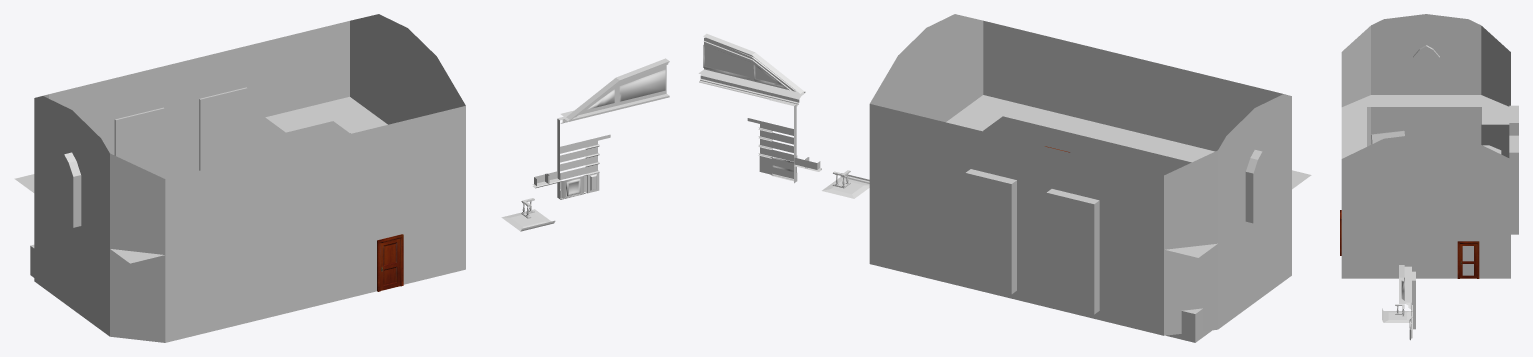
Rendered from AssetsBiblioteca.fbx.
The picture shows the model from 3 angles, left to right: view 1: azimuth 30°, elevation 25°; view 2: azimuth 150°, elevation 25°; view 3: azimuth 270°, elevation 25°; orthographic projection. The views are drawn at different scales.
Parts seen in each view (by area): view 1: Cube, PainelTerreo.002, Porta.002, CumeeiraHall.002, TetoMez, MuralPorta.002; view 2: Cube, PainelTerreo.002, CumeeiraHall.002, CumeeiraHall.001, CumeeiraHall, TetoMez; view 3: Cube, Porta.001, TetoMez, MuralPorta.001, CumeeiraHall.001, TetoMez.003, CumeeiraHall.
Boxes of the visible parts, x1=… form: Cube: x1=14, y1=14, x2=465, y2=342; PainelTerreo.002: x1=579, y1=65, x2=666, y2=114; Porta.002: x1=380, y1=238, x2=400, y2=290; CumeeiraHall.002: x1=566, y1=58, x2=669, y2=120; TetoMez: x1=501, y1=209, x2=551, y2=231; MuralPorta.002: x1=377, y1=234, x2=403, y2=291; Cube: x1=869, y1=14, x2=1311, y2=342; PainelTerreo.002: x1=703, y1=37, x2=795, y2=91; CumeeiraHall.002: x1=703, y1=33, x2=803, y2=93; CumeeiraHall.001: x1=698, y1=69, x2=752, y2=94; CumeeiraHall: x1=748, y1=81, x2=805, y2=106; TetoMez: x1=822, y1=177, x2=869, y2=198; Cube: x1=1341, y1=14, x2=1518, y2=278; Porta.001: x1=1460, y1=244, x2=1476, y2=278; TetoMez: x1=1383, y1=311, x2=1410, y2=322; MuralPorta.001: x1=1457, y1=241, x2=1479, y2=278; CumeeiraHall.001: x1=1399, y1=284, x2=1411, y2=308; TetoMez.003: x1=1412, y1=271, x2=1415, y2=329; CumeeiraHall: x1=1399, y1=266, x2=1411, y2=284.
Bounding box in the file's own units: 34.92 × 11.65 × 12.64.
